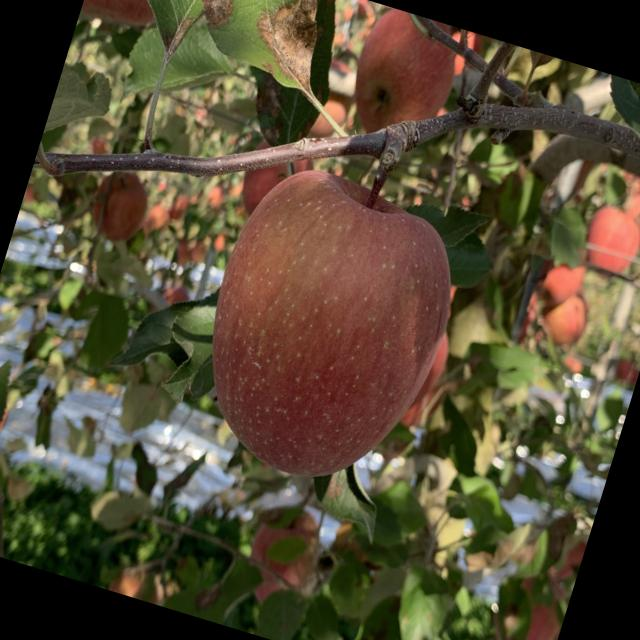fresh: (168, 137, 491, 516)
